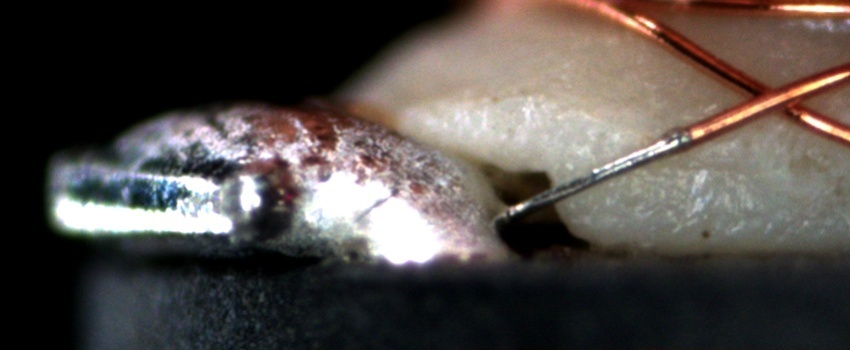CL: (726, 67, 827, 127)
DL: (631, 146, 737, 188)
TS: (503, 129, 692, 218)
TTCW: (504, 105, 751, 223)
